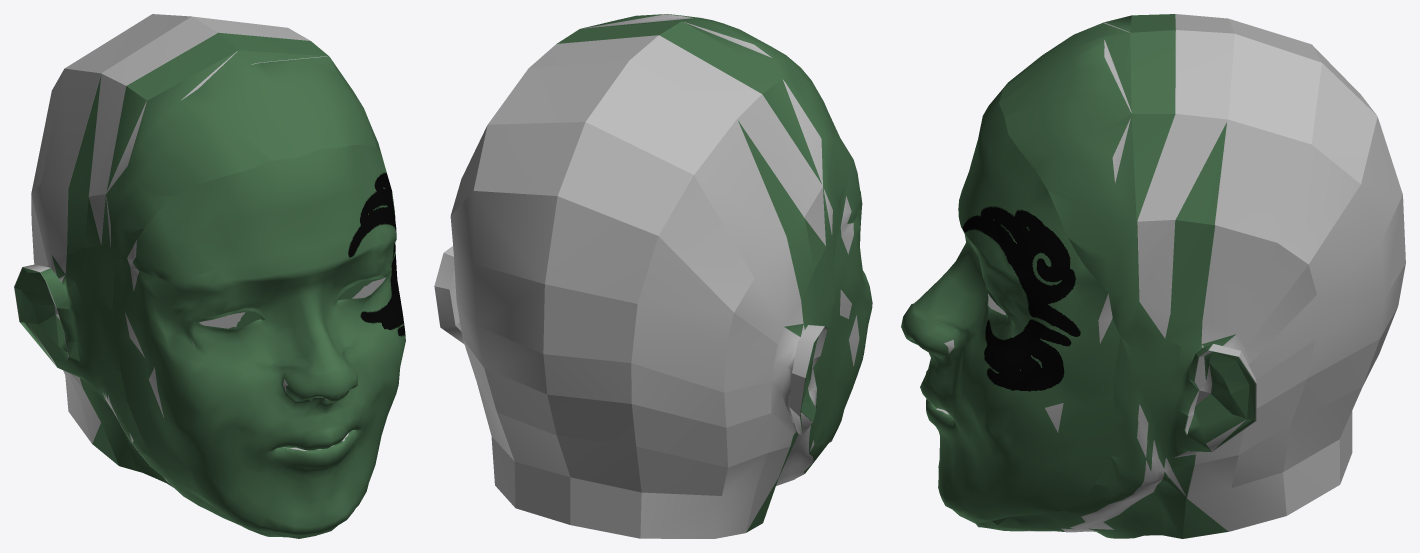
Rendered from skin3.glb.
The picture shows the model from 3 angles, left to right: view 1: azimuth 30°, elevation 25°; view 2: azimuth 150°, elevation 25°; view 3: azimuth 270°, elevation 25°; orthographic projection. The views are drawn at different scales.
Parts seen in each view (by area): view 1: Occluder.002, Occluder; view 2: Occluder, Occluder.002; view 3: Occluder.002, Occluder.
Part boxes in pixels (box(x1,y1,x2,y2)): Occluder.002: box(14, 32, 405, 538); Occluder: box(14, 14, 385, 493); Occluder: box(434, 14, 859, 538); Occluder.002: box(557, 14, 872, 532); Occluder.002: box(901, 14, 1255, 538); Occluder: box(936, 14, 1405, 538).
Size of the model in its own units: 0.1841 by 0.2347 by 0.2182.
2 materials, 1 textured.
